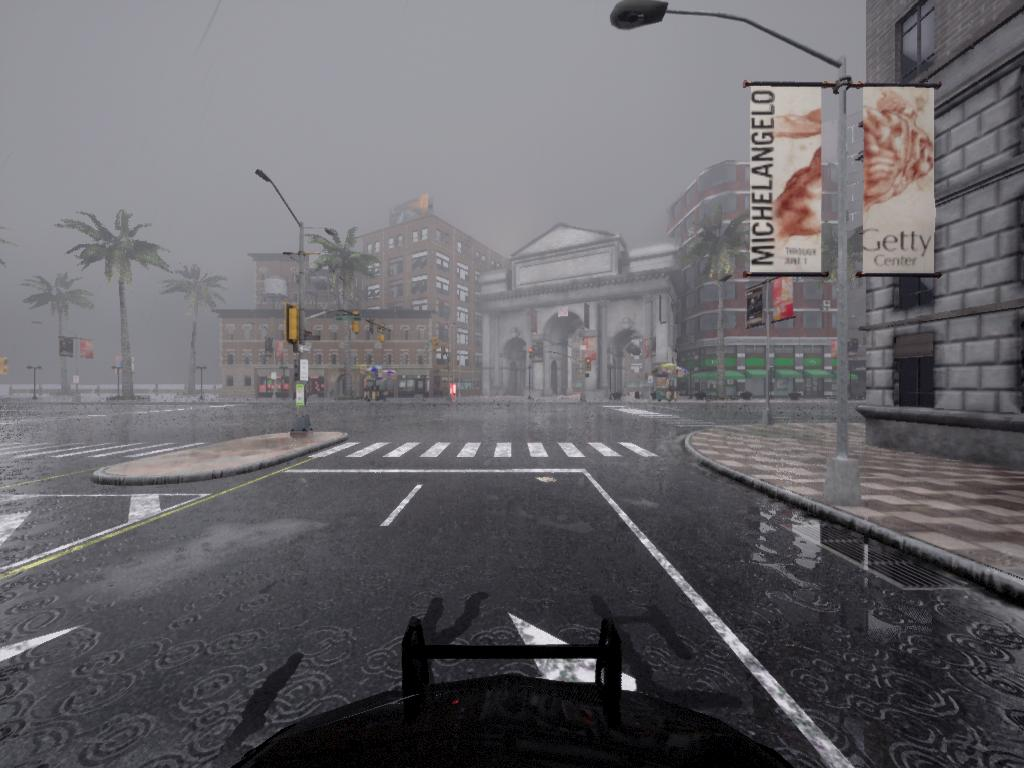traffic_light: (286, 304, 304, 342), (353, 319, 365, 339), (376, 325, 389, 343), (433, 337, 440, 355), (585, 358, 592, 374), (529, 348, 536, 364), (441, 341, 447, 357)
